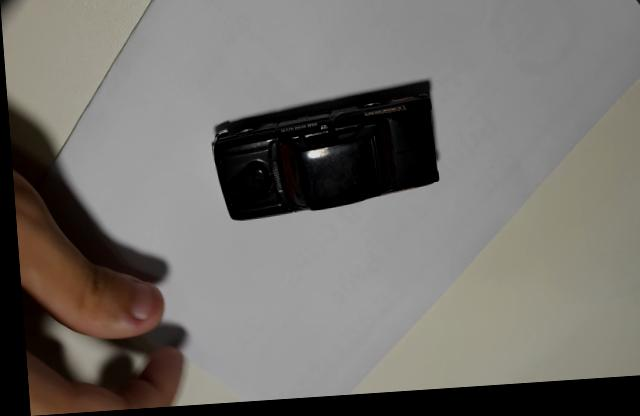01_FORD: (209, 86, 438, 223)
